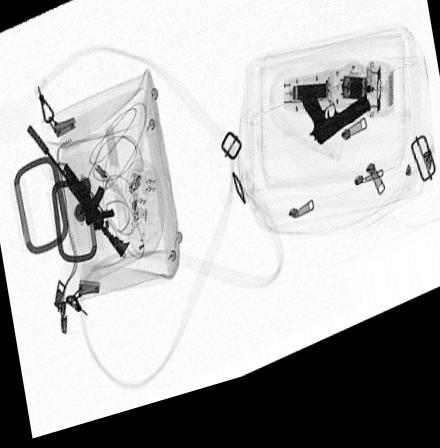Gun: (24, 122, 130, 265), (301, 109, 372, 163)
